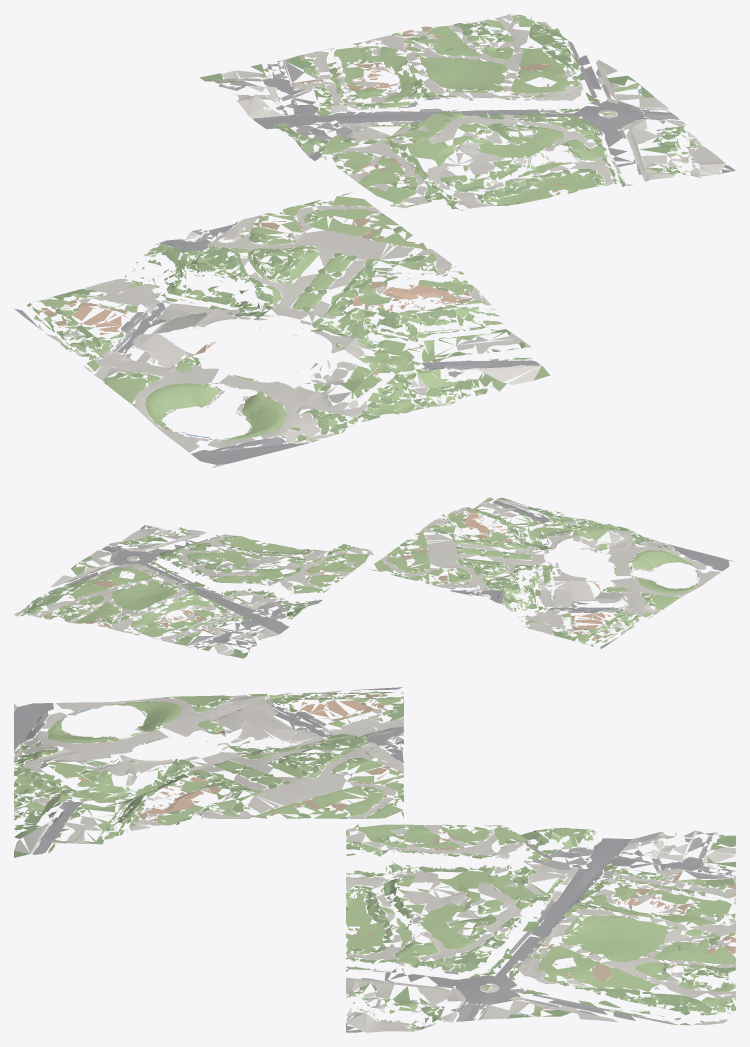
The model's file is sol-zones-v3c.glb.
The picture shows the model from 3 angles, top to bottom: view 1: azimuth 30°, elevation 25°; view 2: azimuth 150°, elevation 25°; view 3: azimuth 270°, elevation 25°; orthographic projection. The views are drawn at different scales.
Visible parts, largest first — view 1: sol-zones-v3c; view 2: sol-zones-v3c; view 3: sol-zones-v3c.
Part boxes in pixels (<box>): sol-zones-v3c: <box>14,14,735,468</box>; sol-zones-v3c: <box>14,497,734,658</box>; sol-zones-v3c: <box>14,687,735,1032</box>.
Size of the model in its own units: 407 by 29.11 by 370.
